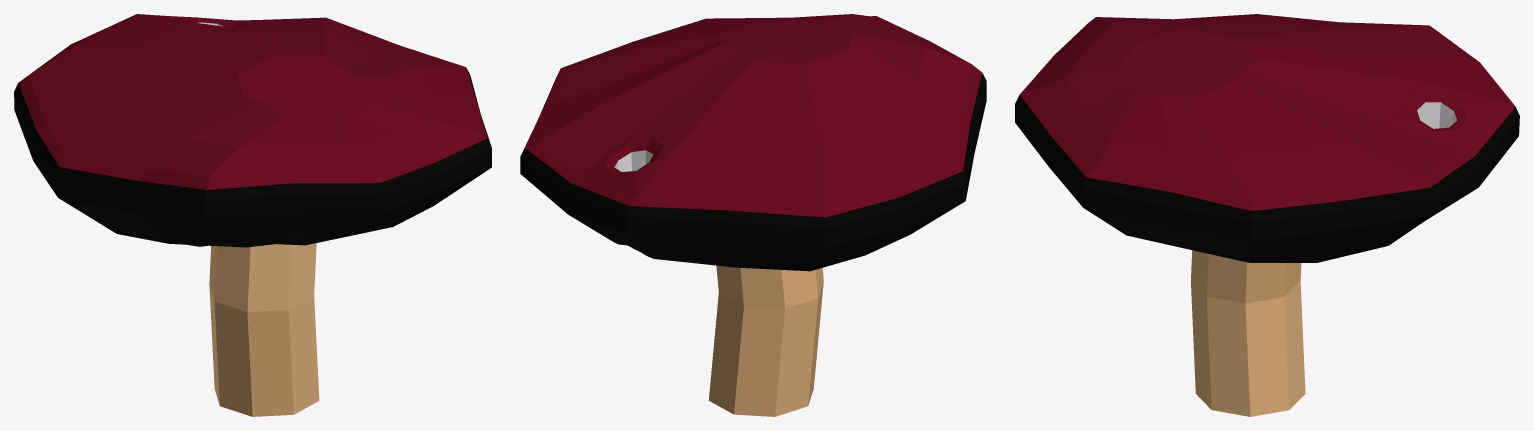
Rendered from Mushroom 08.fbx.
The picture shows the model from 3 angles, left to right: view 1: azimuth 30°, elevation 25°; view 2: azimuth 150°, elevation 25°; view 3: azimuth 270°, elevation 25°; orthographic projection.
Visible parts, largest first — view 1: Mushroom 08; view 2: Mushroom 08; view 3: Mushroom 08.
Boxes of the visible parts, bbox=[...] form: Mushroom 08: bbox=[14, 14, 491, 416]; Mushroom 08: bbox=[520, 14, 986, 416]; Mushroom 08: bbox=[1015, 14, 1519, 416].
Bounding box in the file's own units: 33.64 × 26.08 × 35.32.
